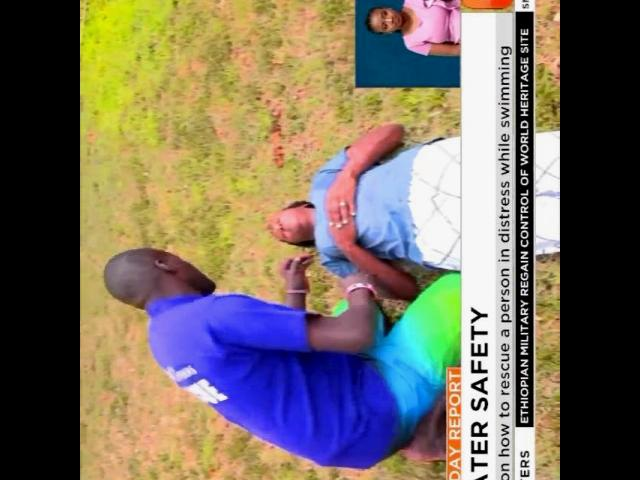out of water: (93, 247, 454, 465), (249, 132, 466, 261)
